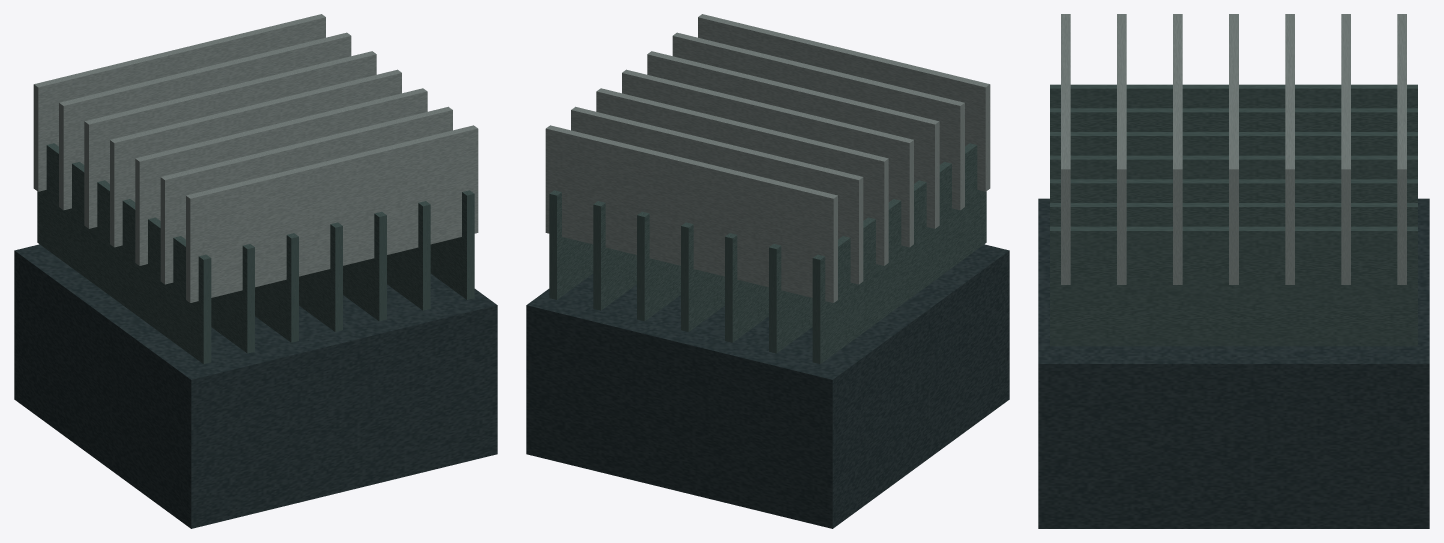
Rendered from conduit_live_01.fbx.
3 views of the same model, side by side, from view 1: azimuth 30°, elevation 25°; view 2: azimuth 150°, elevation 25°; view 3: azimuth 270°, elevation 25° (orthographic). The views are drawn at different scales.
Parts seen in each view (by area): view 1: conduit_live_01_LOD0; view 2: conduit_live_01_LOD0; view 3: conduit_live_01_LOD0.
Part boxes in pixels (x1,y1,x2,y2): conduit_live_01_LOD0: [14, 14, 497, 528]; conduit_live_01_LOD0: [526, 14, 1009, 528]; conduit_live_01_LOD0: [1038, 14, 1429, 528].
Size of what is drawn, in the model's own units: 1 by 1 by 1.
